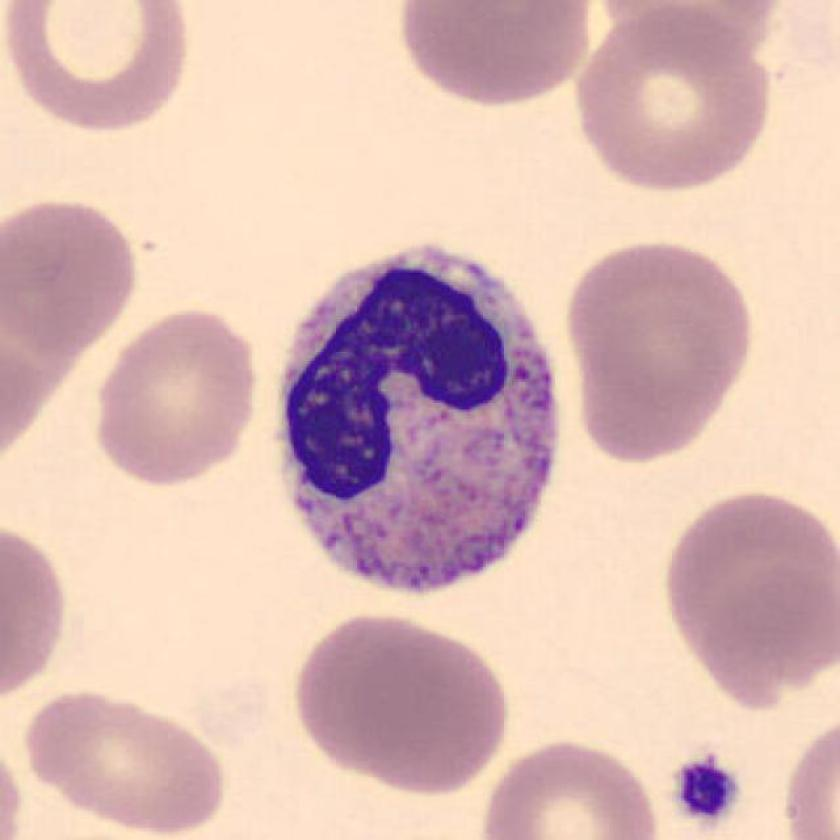neutrophil: (286, 248, 559, 594)
